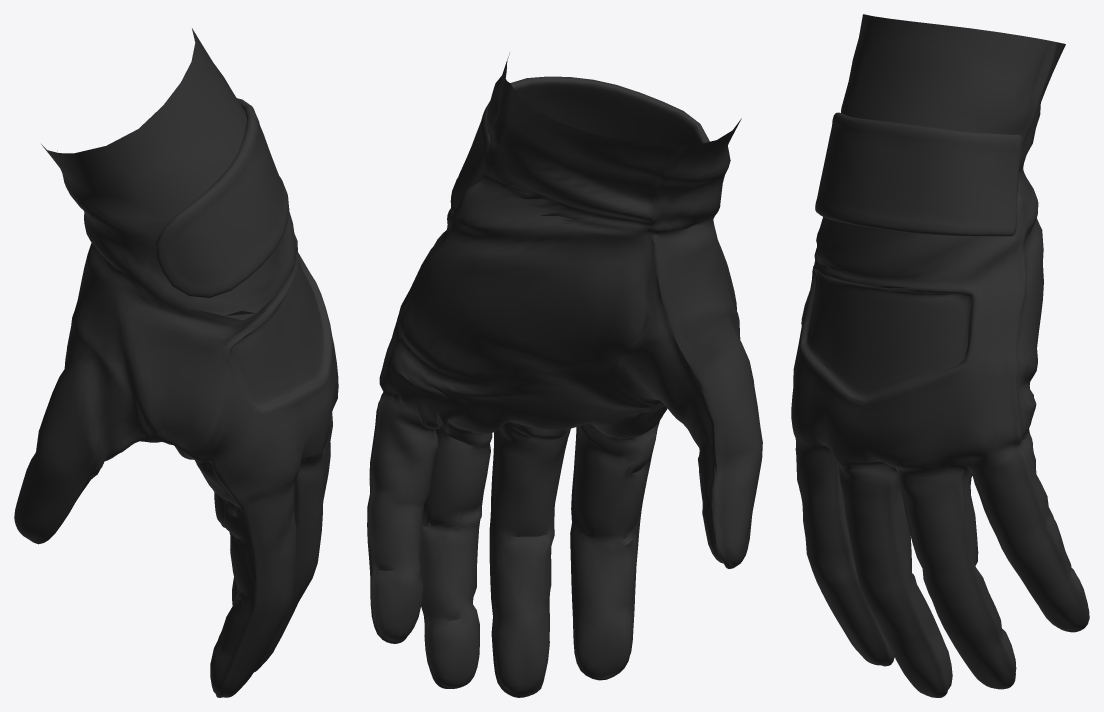
The model's file is glove_unloading_brush_kit3.glb.
3 views of the same model, side by side, from view 1: azimuth 30°, elevation 25°; view 2: azimuth 150°, elevation 25°; view 3: azimuth 270°, elevation 25° (orthographic). The views are drawn at different scales.
Visible parts, largest first — view 1: Retopo_Group3796_0; view 2: Retopo_Group3796_0; view 3: Retopo_Group3796_0.
Boxes of the visible parts, <box> form: Retopo_Group3796_0: <box>14,28,338,697</box>; Retopo_Group3796_0: <box>367,53,762,697</box>; Retopo_Group3796_0: <box>791,14,1089,697</box>.
Bounding box in the file's own units: 0.3448 × 0.6739 × 0.2799.
Materials: 1 (1 with a texture image).
